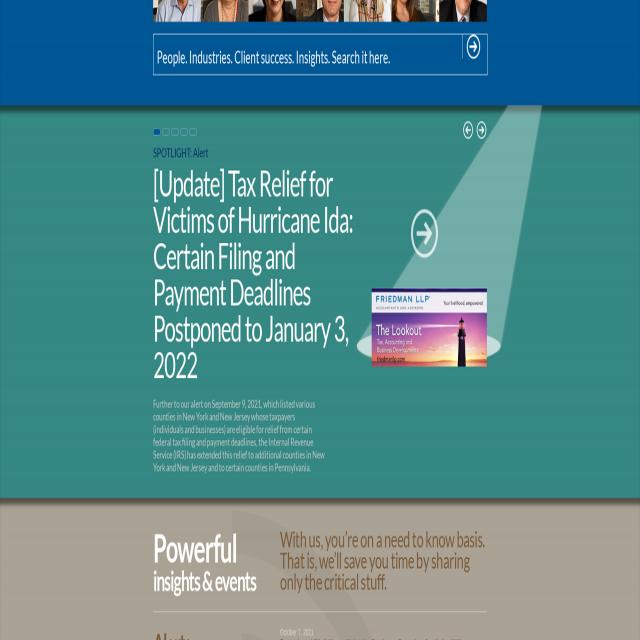button: (372, 288, 487, 368), (411, 209, 438, 259), (201, 0, 249, 23), (248, 0, 296, 23), (344, 0, 391, 23), (439, 0, 487, 22), (153, 0, 200, 22), (296, 0, 343, 22), (391, 0, 438, 22), (466, 35, 480, 60), (463, 121, 473, 139), (477, 122, 487, 140), (153, 128, 161, 136), (189, 128, 197, 136), (162, 129, 170, 136), (171, 129, 179, 136), (180, 129, 187, 136)
field: (153, 34, 487, 74)
